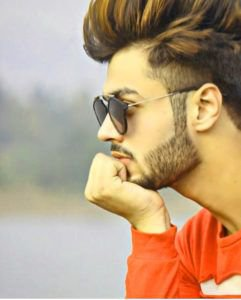noMask: (77, 2, 230, 185)
